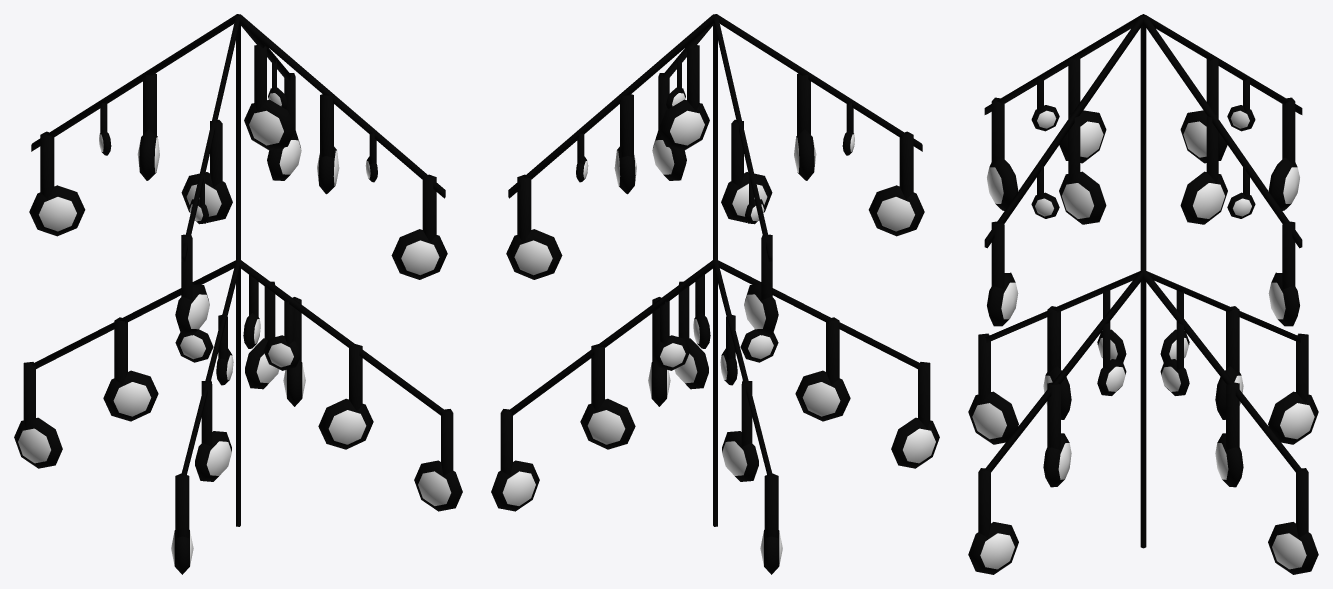
The model's file is music-tree.obj.
The picture shows the model from 3 angles, left to right: view 1: azimuth 30°, elevation 25°; view 2: azimuth 150°, elevation 25°; view 3: azimuth 270°, elevation 25°; orthographic projection. The views are drawn at different scales.
Parts seen in each view (by area): view 1: Cylinder; view 2: Cylinder; view 3: Cylinder.
Part boxes in pixels (x1=…): Cylinder: x1=14, y1=14, x2=462, y2=574; Cylinder: x1=491, y1=14, x2=939, y2=574; Cylinder: x1=968, y1=14, x2=1318, y2=574.
Size of the model in its own units: 1.16 by 2 by 1.19.
